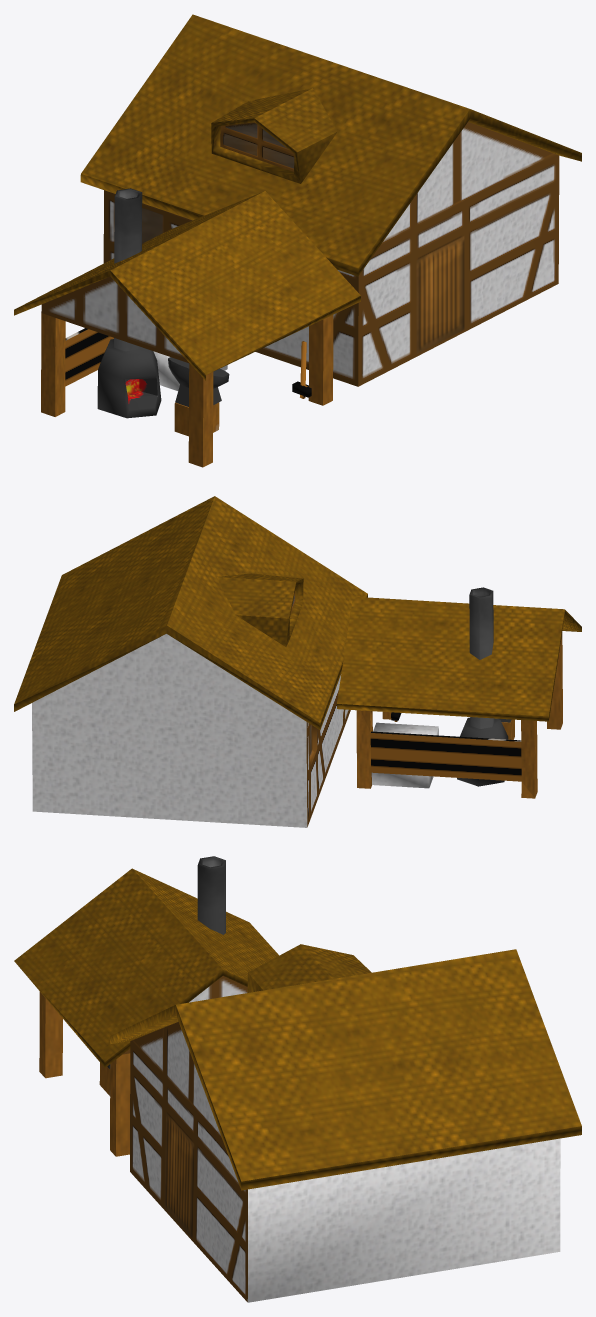
File: workshop2.gltf
3 renders of one model, top to bottom at view 1: azimuth 30°, elevation 25°; view 2: azimuth 150°, elevation 25°; view 3: azimuth 270°, elevation 25°, orthographic. The views are drawn at different scales.
Parts seen in each view (by area): view 1: something; view 2: something; view 3: something.
Part boxes in pixels (left/top/right/bottom): something: left=14, top=14, right=581, bottom=467; something: left=14, top=496, right=581, bottom=827; something: left=14, top=856, right=581, bottom=1302.
Bounding box in the file's own units: 5.4 × 2.11 × 4.6.
Materials: 1 (1 with a texture image).
